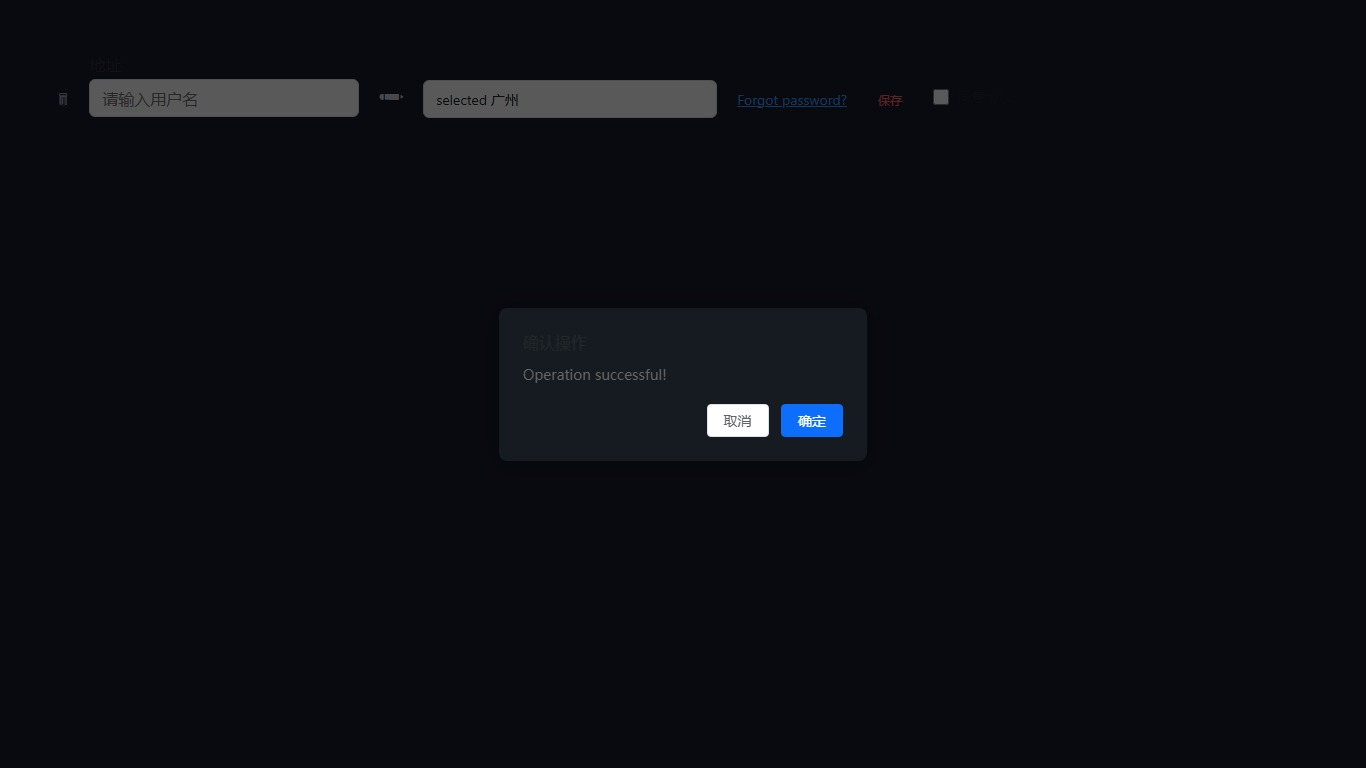button: (707, 403, 769, 437), (781, 403, 843, 437), (867, 88, 913, 110)
checkbox: (933, 89, 949, 104)
icon: (957, 87, 1013, 106), (379, 83, 403, 107), (58, 90, 69, 106)
input: (89, 79, 359, 117)
link: (737, 89, 847, 108)
modal: (0, 0, 1366, 768)
radio: (933, 87, 1013, 106)
select: (423, 80, 717, 118)
